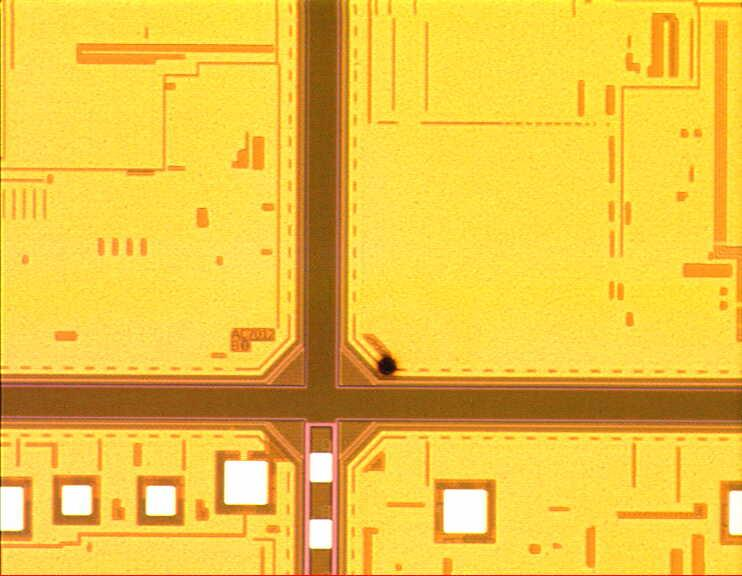PIQ PARTICLE: (369, 347, 409, 387)
